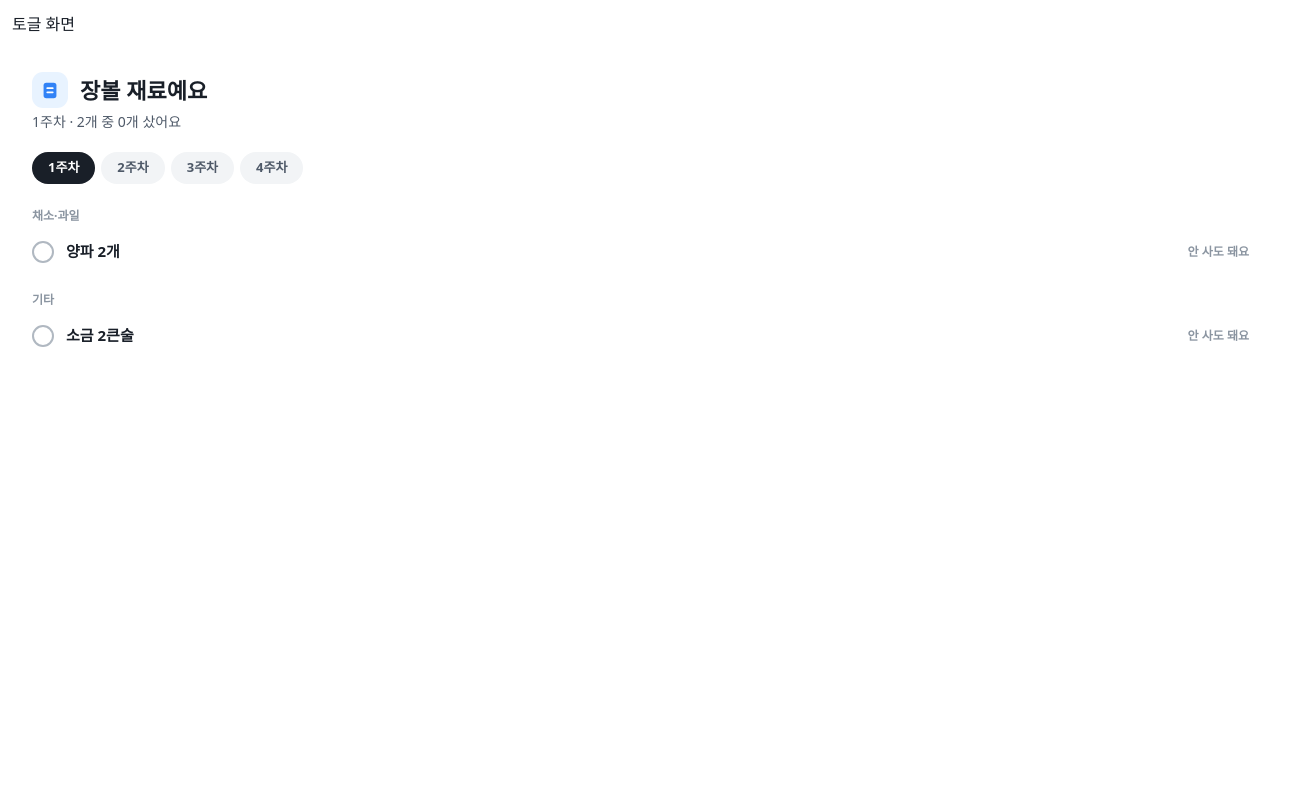
Test case: ShoppingScreen › removes an item with 안 사도 돼요 and offers to undo it right away
Click the button with aria-label "양파 안 사도 돼요".
click(1218, 252)  # box 1180,238 -> 1257,266
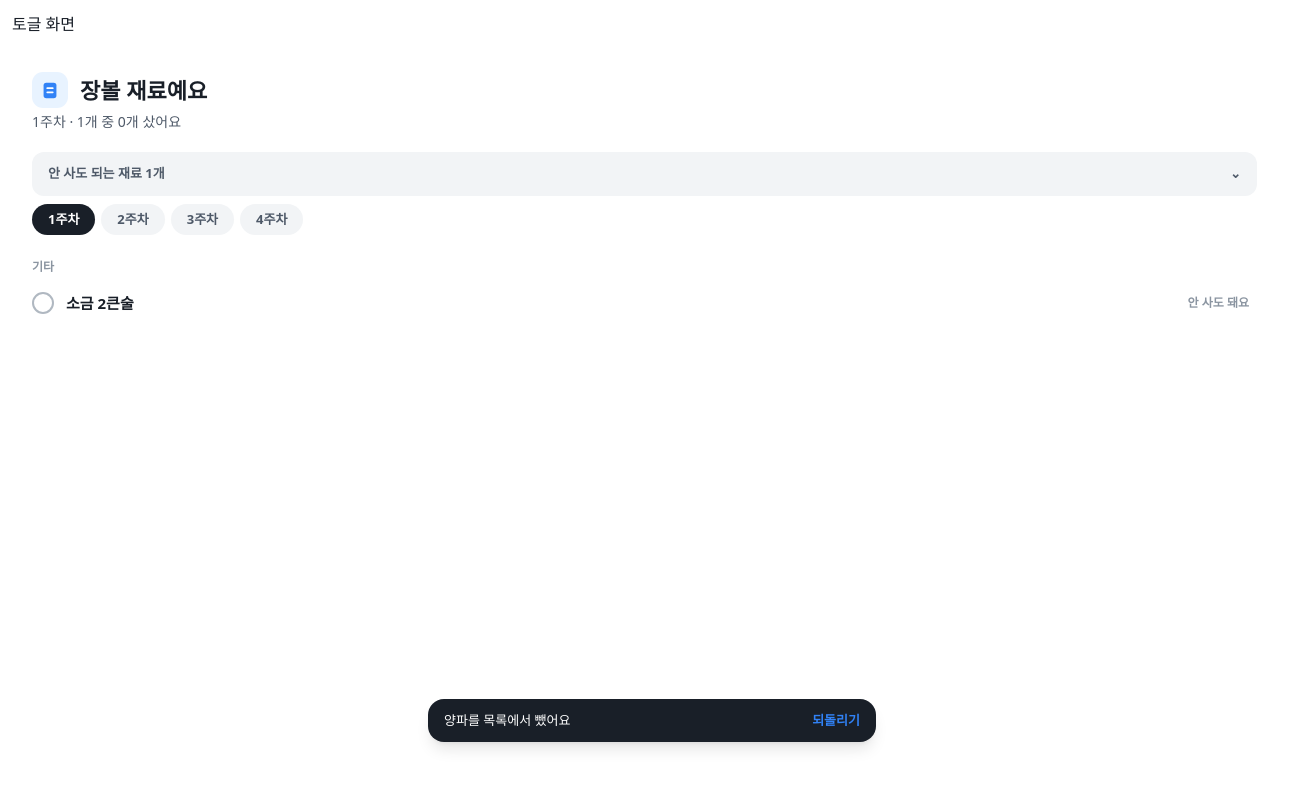
Now the text "양파 2개" is gone
Now the message shows "양파를 목록에서 뺐어요", box 428,698 -> 876,742
Now the button "안 사도 되는 재료 1개 ⌄" is shown, box 32,152 -> 1257,196
Click the button "되돌리기".
click(836, 720)  # box 812,710 -> 860,730
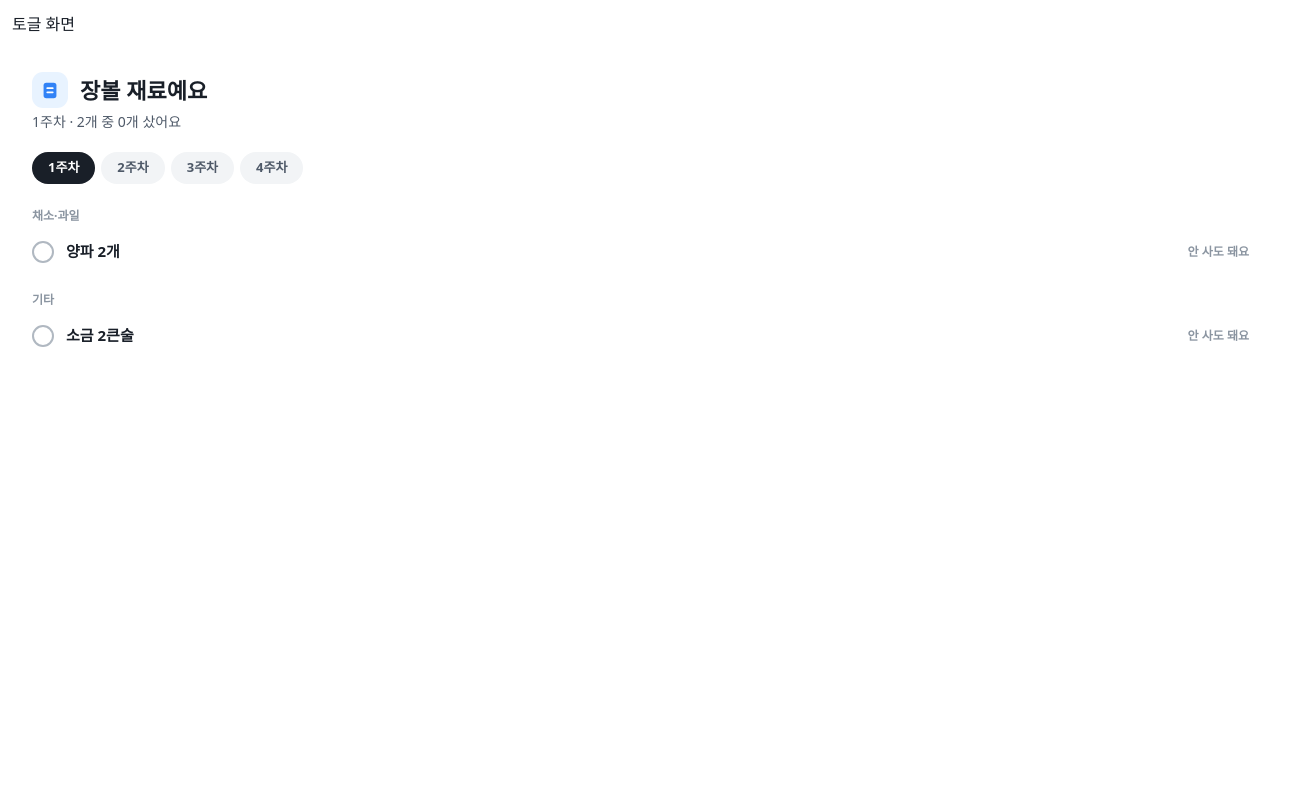
Now the text "양파 2개" is shown, box 66,241 -> 120,261
Now the message "양파를 목록에서 뺐어요 되돌리기" is gone
Now the button "안 사도 되는 재료" is gone
